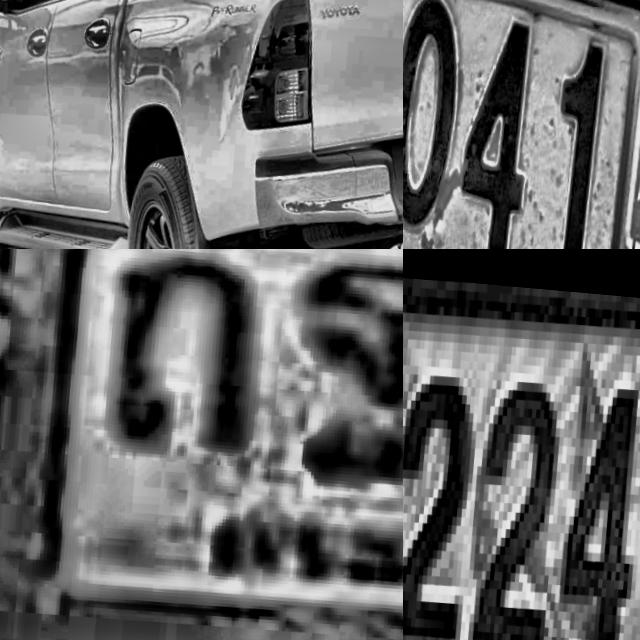license-plate: (0, 249, 403, 640), (403, 249, 640, 640), (403, 0, 640, 249)
